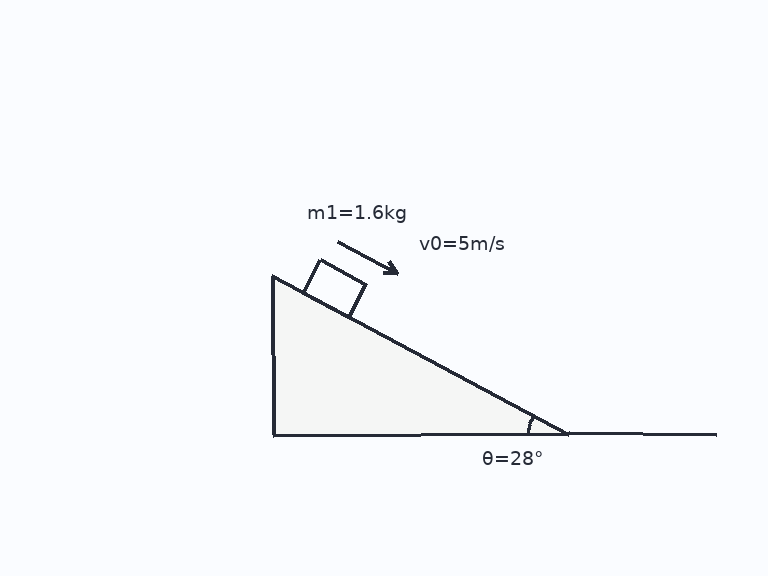block: (301, 258, 367, 319)
ramp: (270, 275, 570, 436)
